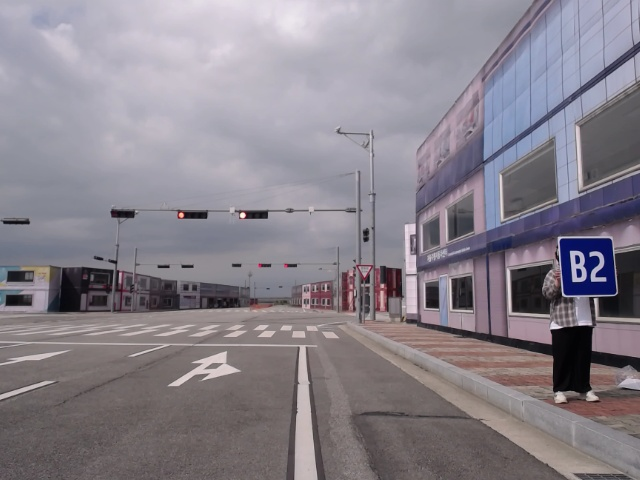delivery_b2: (557, 235, 620, 298)
red_4: (237, 208, 271, 221), (176, 209, 210, 220), (283, 262, 300, 269), (257, 262, 273, 269)
